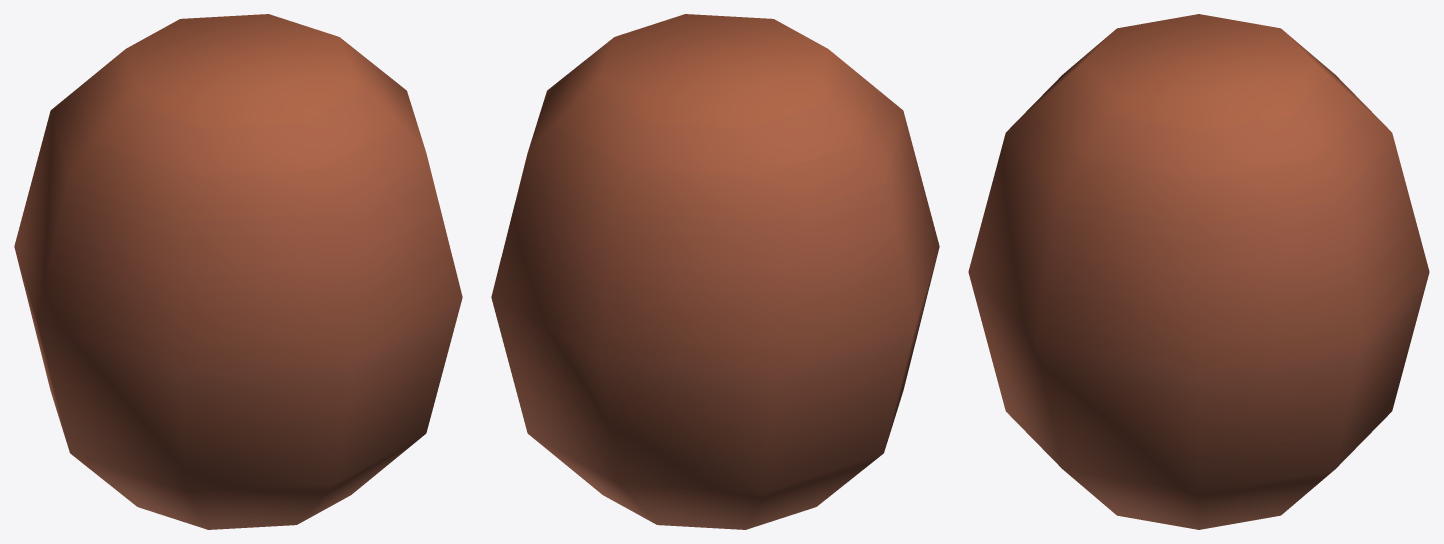
The model's file is coconut.glb.
3 views of the same model, side by side, from view 1: azimuth 30°, elevation 25°; view 2: azimuth 150°, elevation 25°; view 3: azimuth 270°, elevation 25° (orthographic).
Parts seen in each view (by area): view 1: coconut; view 2: coconut; view 3: coconut.
Part boxes in pixels (x1=…): coconut: x1=14, y1=14, x2=462, y2=529; coconut: x1=491, y1=14, x2=939, y2=529; coconut: x1=968, y1=14, x2=1429, y2=529.
Bounding box in the file's own units: 0.2484 × 0.2484 × 0.2484.
Materials: 1 (1 with a texture image).
